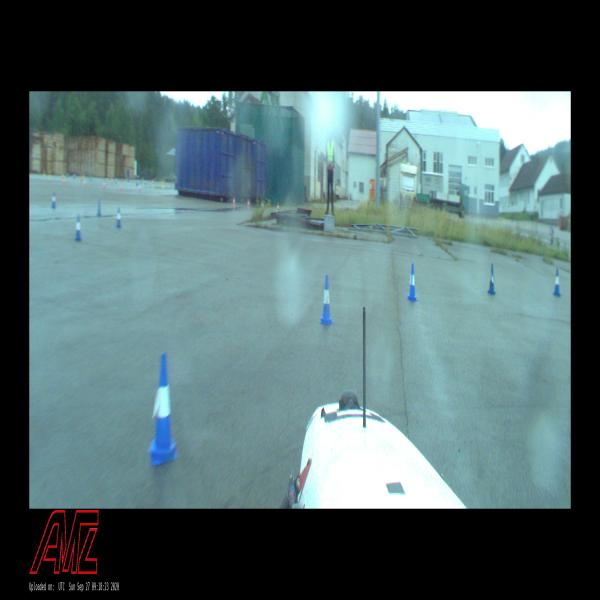blue_cone: (148, 353, 177, 466), (320, 275, 334, 324), (408, 263, 418, 301), (488, 265, 496, 295), (75, 215, 82, 241), (554, 268, 560, 298), (116, 206, 122, 228), (97, 197, 101, 218), (52, 191, 56, 208)
orange_cone: (247, 198, 250, 209), (261, 201, 264, 210), (233, 195, 235, 206), (277, 202, 279, 212)
